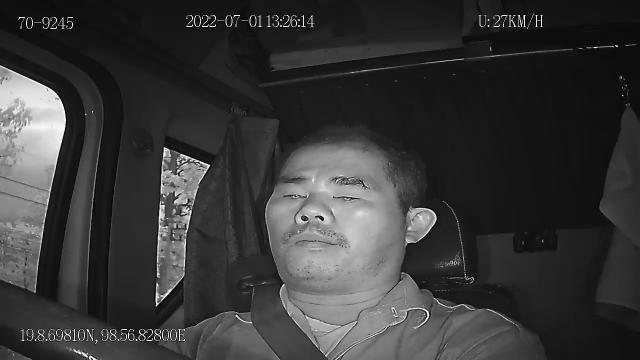SafeDriving: (324, 170, 373, 207), (324, 168, 374, 197), (274, 180, 312, 206)
Seatbelt: (249, 282, 331, 360)
